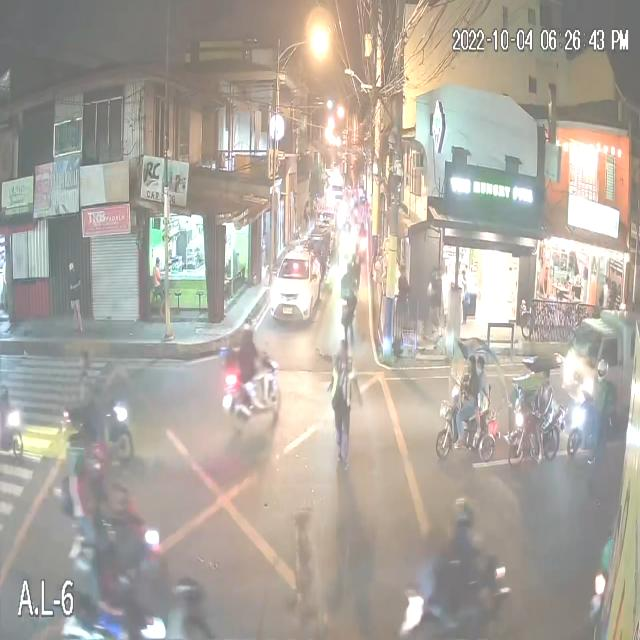Full-Faced: (84, 436, 112, 483), (108, 471, 135, 519), (450, 494, 476, 536), (73, 348, 92, 376), (594, 356, 610, 384), (242, 314, 256, 338)
